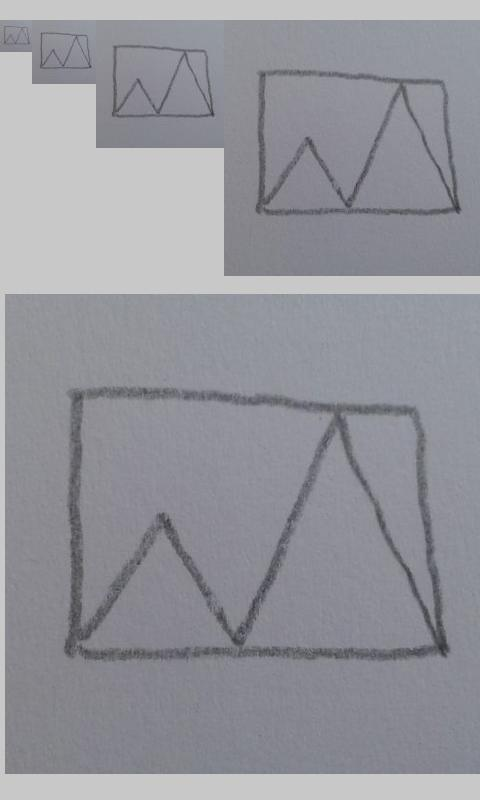image_view: (65, 386, 448, 667), (256, 66, 461, 222), (112, 44, 215, 118), (39, 32, 92, 69), (3, 25, 30, 46)
